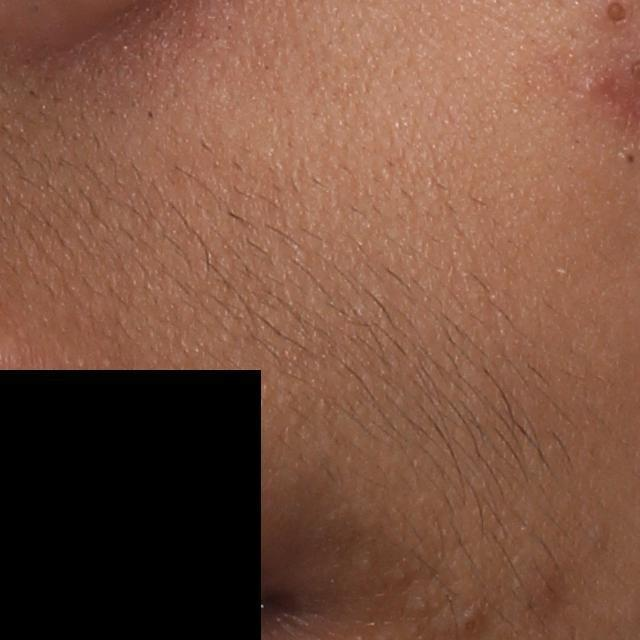comedo: (458, 607, 486, 638)
